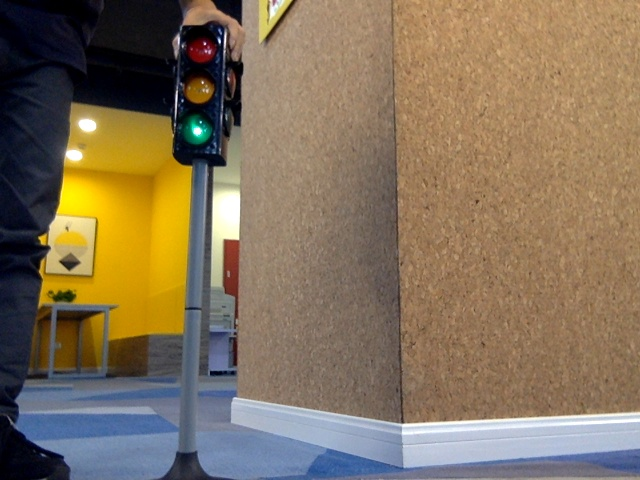green: (174, 39, 219, 151)
